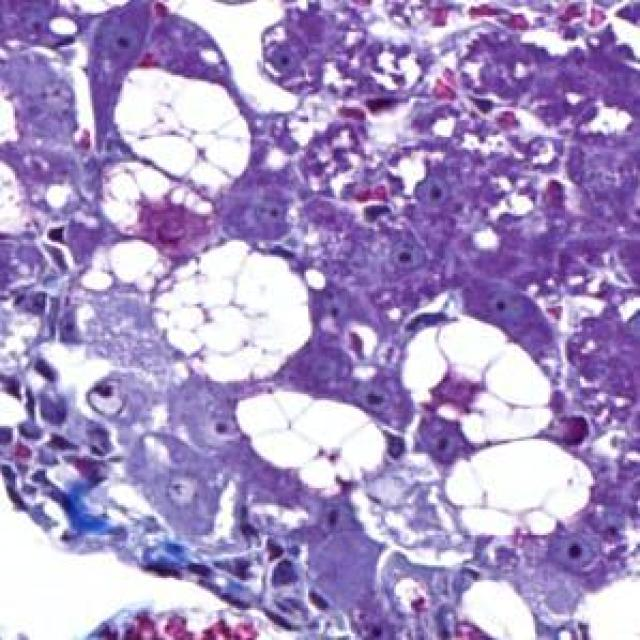ballooning: (150, 237, 317, 394), (394, 312, 556, 456), (220, 381, 392, 505), (443, 428, 602, 554), (111, 62, 257, 197)
